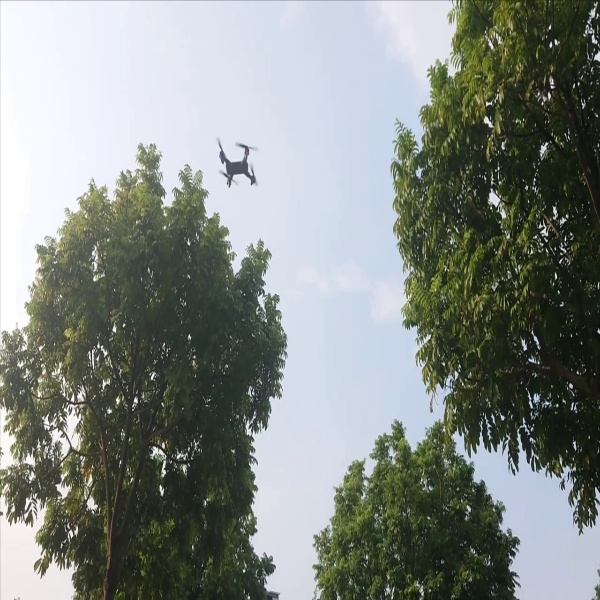drone: (211, 129, 266, 198)
